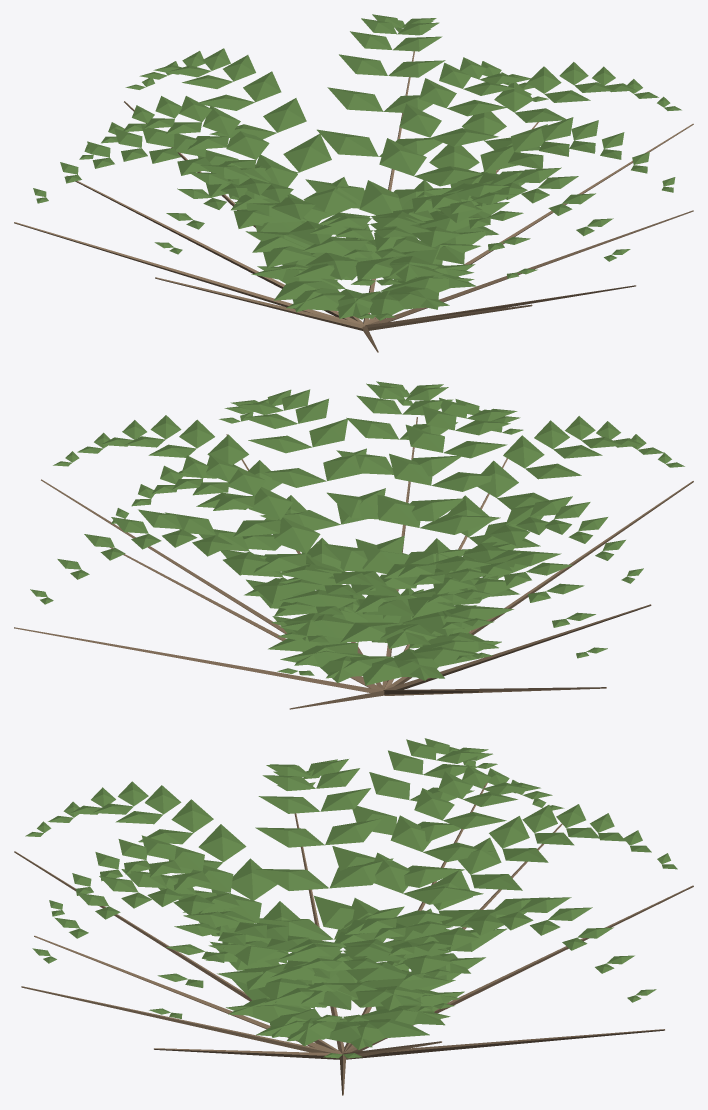
The model's file is fern.glb.
3 renders of one model, top to bottom at view 1: azimuth 30°, elevation 25°; view 2: azimuth 150°, elevation 25°; view 3: azimuth 270°, elevation 25°, orthographic. The views are drawn at different scales.
Visible parts, largest first — view 1: fern; view 2: fern; view 3: fern.
Boxes of the visible parts, <box> form: fern: <box>14,14,693,352</box>; fern: <box>14,381,693,709</box>; fern: <box>14,738,693,1095</box>.
Size of the model in its own units: 1.8 by 0.5643 by 1.64.
